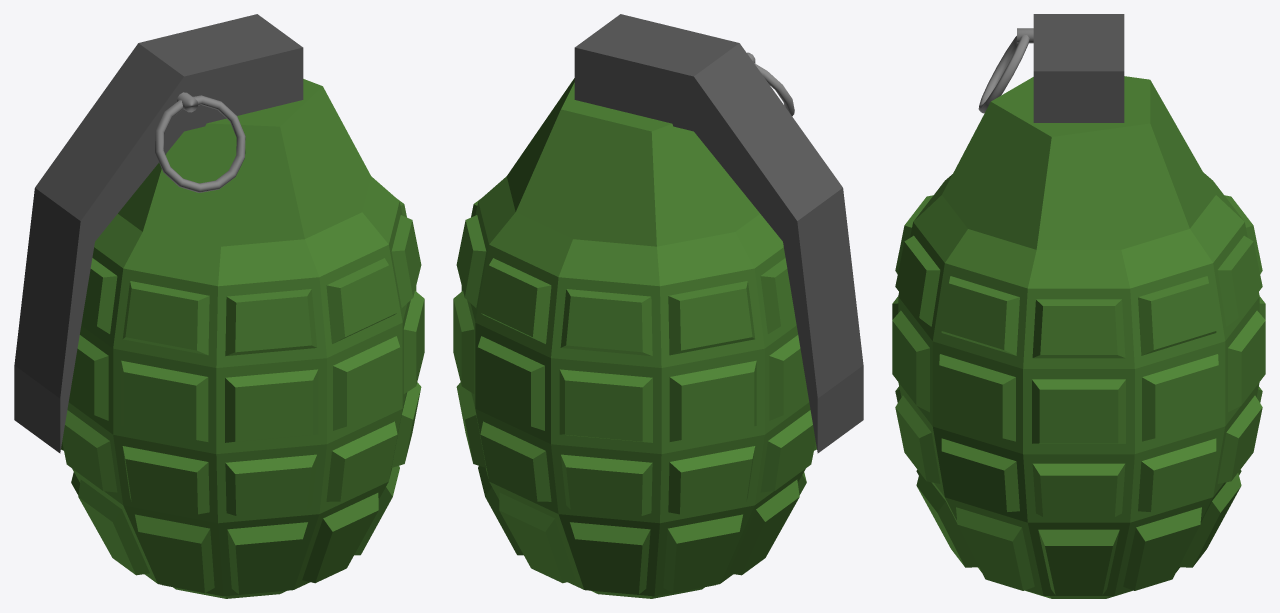
Rendered from grenade.glb.
The picture shows the model from 3 angles, left to right: view 1: azimuth 30°, elevation 25°; view 2: azimuth 150°, elevation 25°; view 3: azimuth 270°, elevation 25°; orthographic projection.
Visible parts, largest first — view 1: Cylinder, Cube, Cylinder.001; view 2: Cylinder, Cube, Cylinder.001; view 3: Cylinder, Cube, Cylinder.001.
Boxes of the visible parts, box(x1,y1,x2,y2) form: Cylinder: box(61, 79, 424, 598); Cube: box(14, 14, 303, 453); Cylinder.001: box(155, 92, 245, 192); Cylinder: box(453, 78, 816, 598); Cube: box(574, 14, 863, 453); Cylinder.001: box(747, 52, 794, 116); Cylinder: box(892, 76, 1265, 598); Cube: box(1033, 14, 1124, 122); Cylinder.001: box(978, 28, 1033, 113).
Bounding box in the file's own units: 2.29 × 3.16 × 2.09.
1 material, 1 textured.
